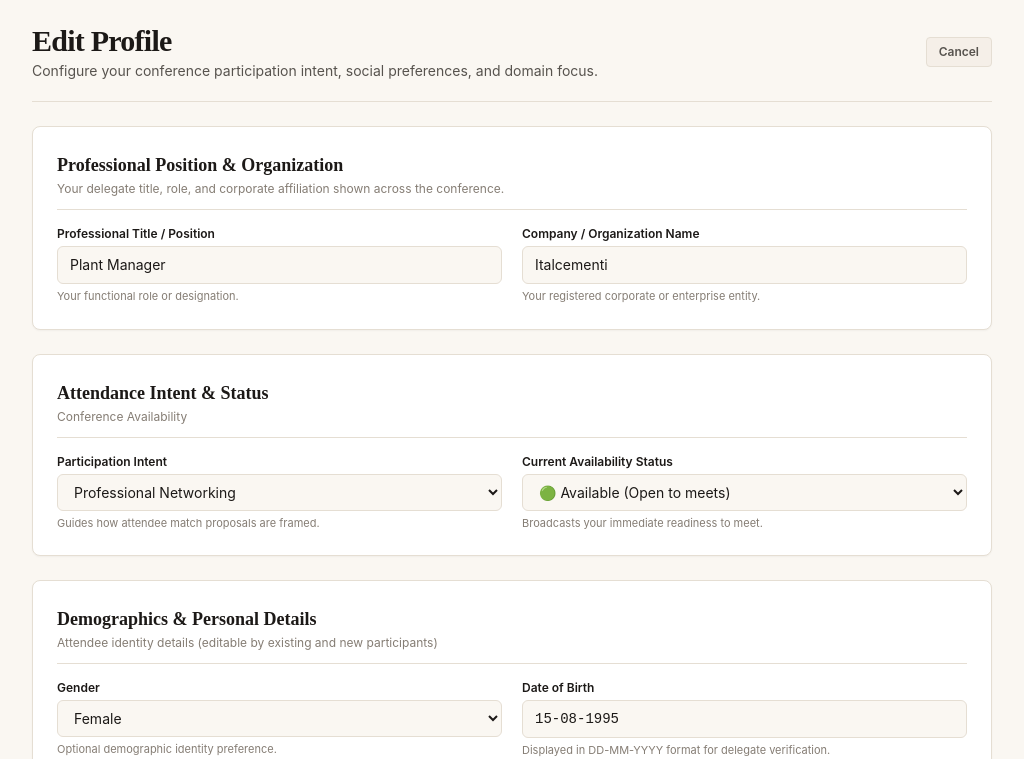
Test: ProfileEdit Component › validates DD-MM-YYYY date of birth and submits gender and date_of_birth
Later steps or results of the test are not shown.
Expected: the dropdown labelled "Gender" shows "Female", [57,700,502,737]
Test invalid date format validation
Replace the text in the field labelled "Date of Birth" with "1995-08-15". click: (744, 719)
box: [522,700,967,738]
(page scrolled)
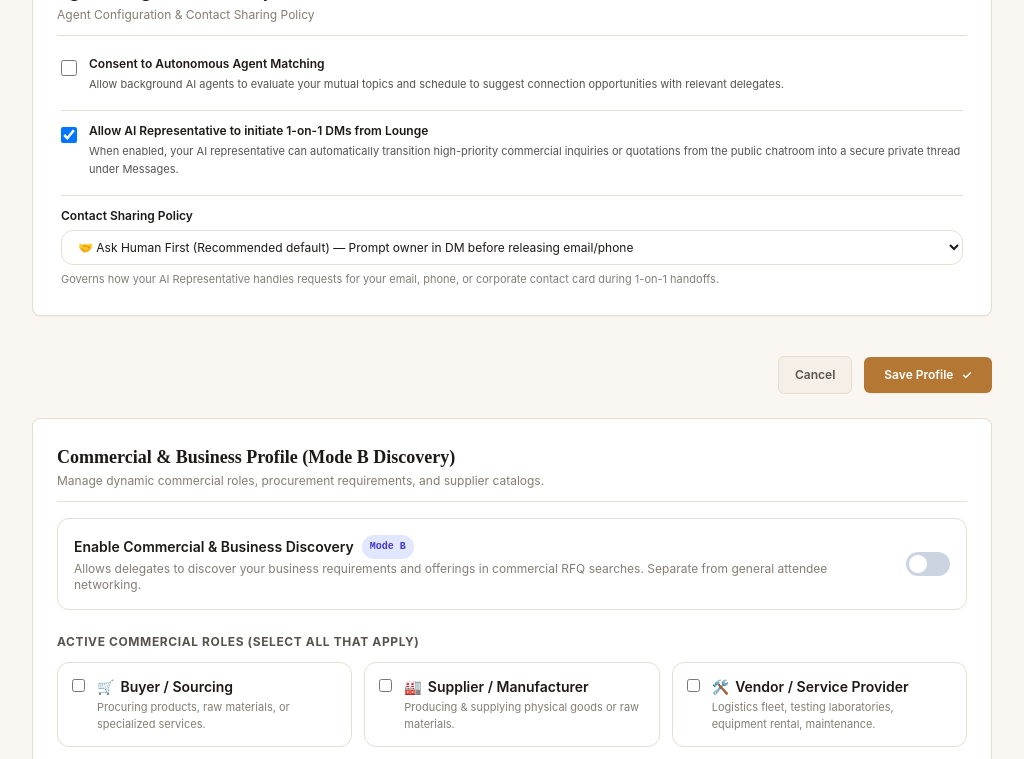
Click the button "Save Profile ✓". click: click(928, 375)
box: [864,357,992,393]
(page scrolled)
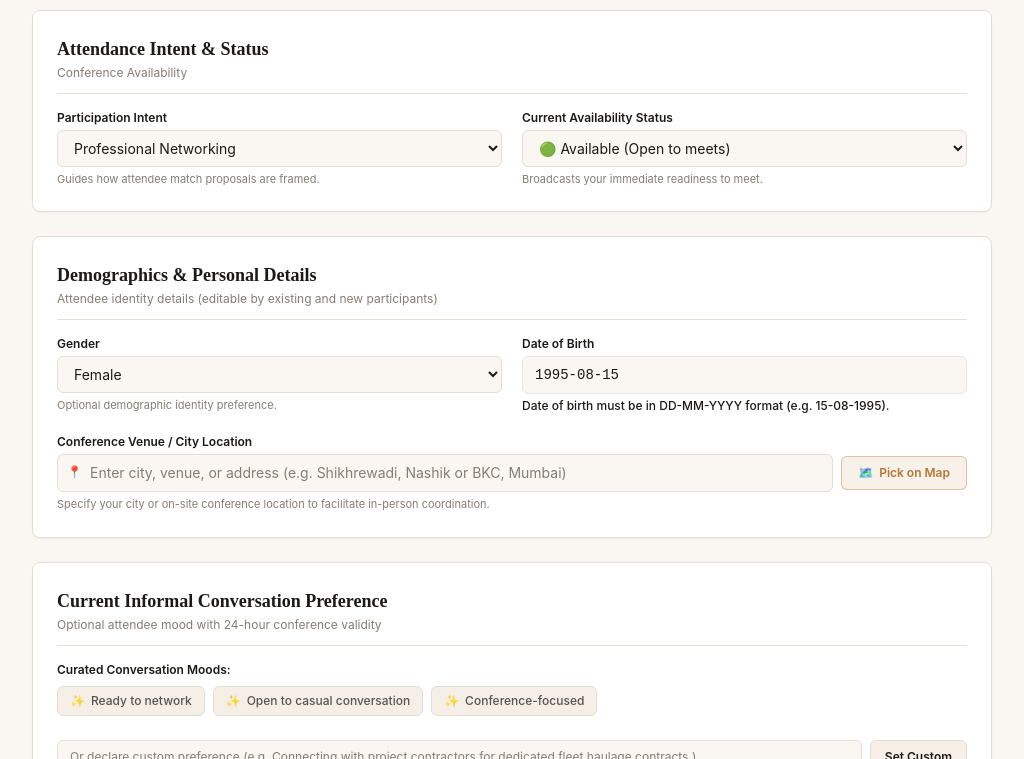
Result: the text "Date of birth must be in DD-MM-YYYY format" is shown at [522,398,890,413]
